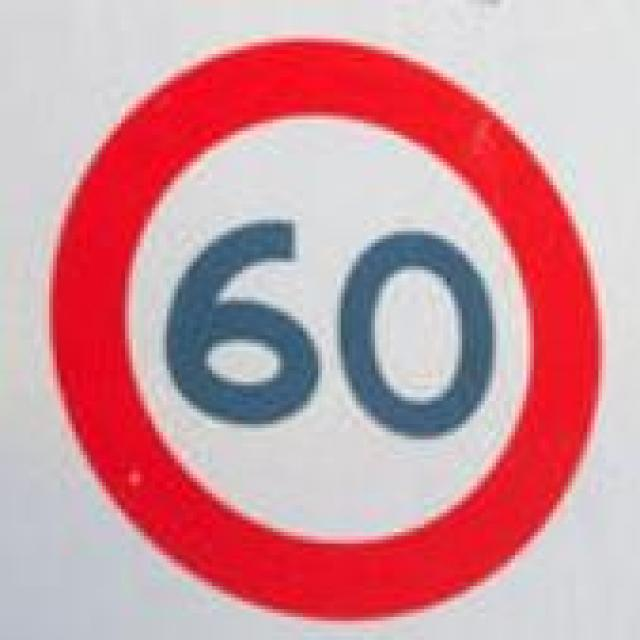speed_limit_60: (49, 35, 598, 613)
